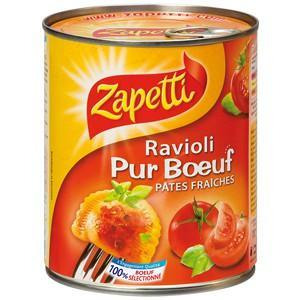metal: (43, 6, 259, 292)
